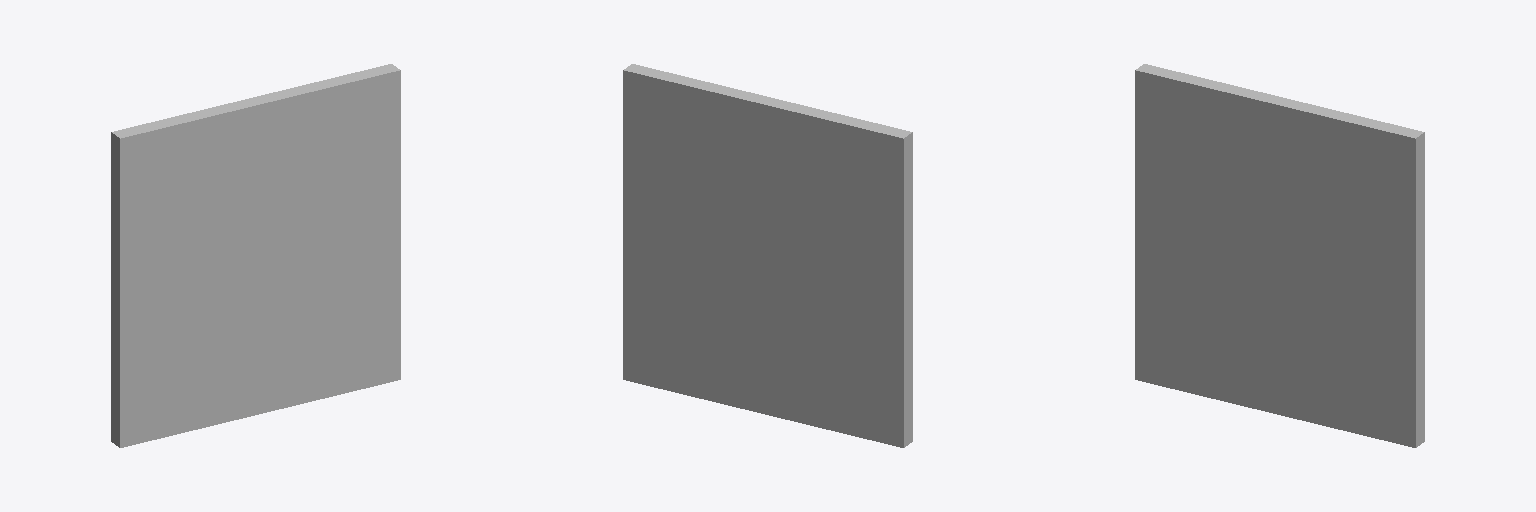
The model's file is large crate.obj.
The picture shows the model from 3 angles: view 1: azimuth 30°, elevation 25°; view 2: azimuth 150°, elevation 25°; view 3: azimuth 330°, elevation 25°; orthographic projection.
Visible parts, largest first — view 1: object 1; view 2: object 1; view 3: object 1.
Boxes of the visible parts, box(x1,y1,x2,y2) form: object 1: box(111, 64, 400, 447); object 1: box(623, 64, 912, 447); object 1: box(1135, 64, 1424, 447).
Size of the model in its own units: 1.8 by 1.9 by 0.1.